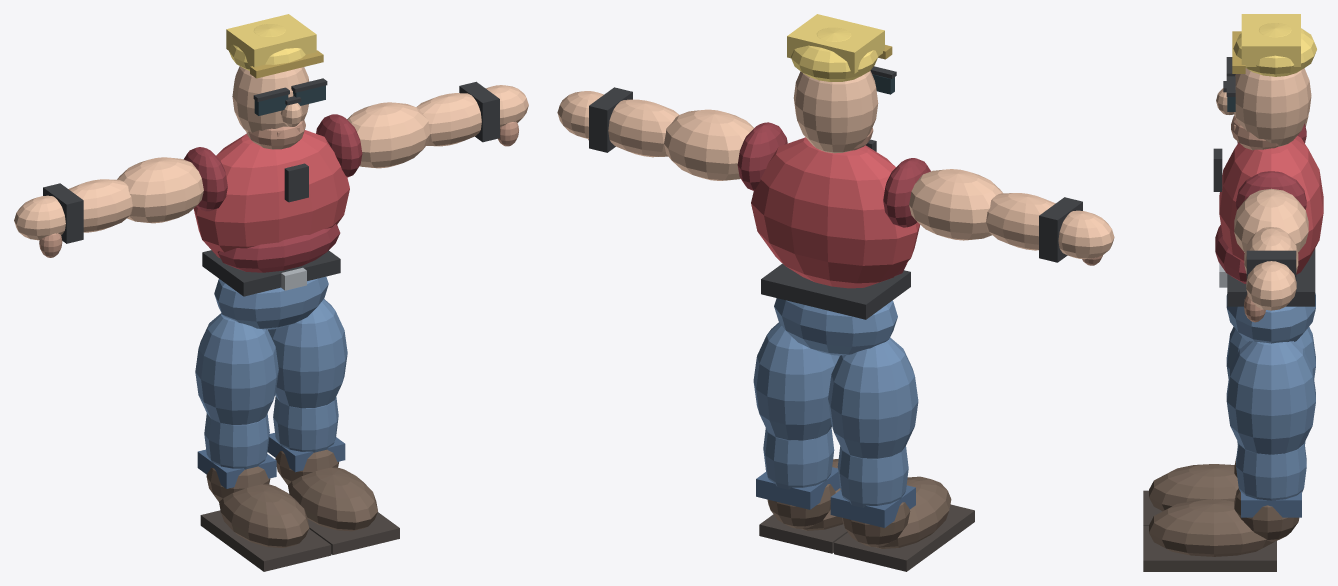
Rendered from duke-pilot-assembled-preview.glb.
3 renders of one model, left to right at view 1: azimuth 30°, elevation 25°; view 2: azimuth 150°, elevation 25°; view 3: azimuth 270°, elevation 25°, orthographic. The views are drawn at different scales.
Parts seen in each view (by area): view 1: part_09_chest, part_16_head, part_01_leg_a_1, part_04_leg_a_4, part_00_pelvis, part_05_leg_b_1, part_08_leg_b_4, part_10_left_shoulder, part_13_right_shoulder, part_14_right_forearm, part_02_leg_a_2, part_06_leg_b_2 (+5 smaller); view 2: part_09_chest, part_16_head, part_01_leg_a_1, part_00_pelvis, part_05_leg_b_1, part_10_left_shoulder, part_13_right_shoulder, part_04_leg_a_4, part_02_leg_a_2, part_06_leg_b_2, part_14_right_forearm, part_11_left_forearm (+5 smaller); view 3: part_16_head, part_05_leg_b_1, part_08_leg_b_4, part_09_chest, part_13_right_shoulder, part_06_leg_b_2, part_00_pelvis, part_04_leg_a_4, part_15_right_hand, part_14_right_forearm, part_07_leg_b_3, part_01_leg_a_1.
Boxes of the visible parts, x1,y1,x2,y2 form: part_09_chest: (193,130,349,272); part_16_head: (226,14,327,149); part_01_leg_a_1: (195,313,278,424); part_04_leg_a_4: (200,484,331,571); part_00_pelvis: (202,250,340,329); part_05_leg_b_1: (268,299,347,408); part_08_leg_b_4: (288,467,399,554); part_10_left_shoulder: (117,147,227,223); part_13_right_shoulder: (316,102,430,177); part_14_right_forearm: (416,81,499,146); part_02_leg_a_2: (197,413,276,488); part_06_leg_b_2: (267,396,345,472); part_09_chest: (751,137,920,288); part_16_head: (787,14,896,153); part_01_leg_a_1: (828,337,918,458); part_00_pelvis: (761,263,910,355); part_05_leg_b_1: (753,322,839,440); part_10_left_shoulder: (883,158,1002,240); part_13_right_shoulder: (664,109,787,190); part_04_leg_a_4: (834,476,974,571); part_02_leg_a_2: (830,446,915,527); part_06_leg_b_2: (756,428,840,509); part_14_right_forearm: (589,87,678,157); part_11_left_forearm: (986,193,1082,262); part_16_head: (1216,14,1316,150); part_05_leg_b_1: (1226,341,1315,454); part_08_leg_b_4: (1143,499,1276,571); part_09_chest: (1213,136,1323,283); part_13_right_shoulder: (1234,171,1308,252); part_06_leg_b_2: (1236,443,1306,517); part_00_pelvis: (1219,248,1315,343); part_04_leg_a_4: (1143,464,1238,525); part_15_right_hand: (1244,261,1296,322); part_14_right_forearm: (1244,227,1298,301); part_07_leg_b_3: (1234,488,1299,541); part_01_leg_a_1: (1226,326,1315,379).
Size of the model in its own units: 3.26 by 2.94 by 0.943.
